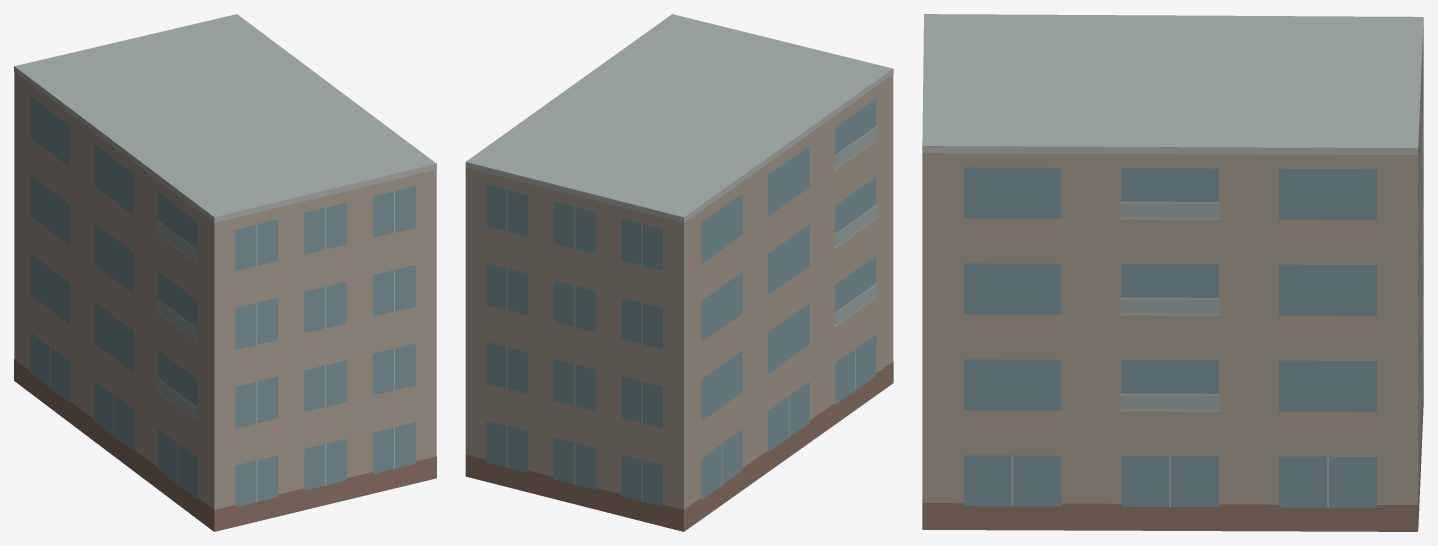
File: survey-upis-32748792.glb
The picture shows the model from 3 angles, left to right: view 1: azimuth 30°, elevation 25°; view 2: azimuth 150°, elevation 25°; view 3: azimuth 270°, elevation 25°; orthographic projection. The views are drawn at different scales.
Visible parts, largest first — view 1: survey-upis-32748792.tmp; view 2: survey-upis-32748792.tmp; view 3: survey-upis-32748792.tmp.
Part boxes in pixels (bbox=[...]): survey-upis-32748792.tmp: bbox=[14, 14, 436, 531]; survey-upis-32748792.tmp: bbox=[465, 14, 893, 531]; survey-upis-32748792.tmp: bbox=[922, 14, 1423, 531].
Size of the model in its own units: 10 by 13.3 by 15.75.
